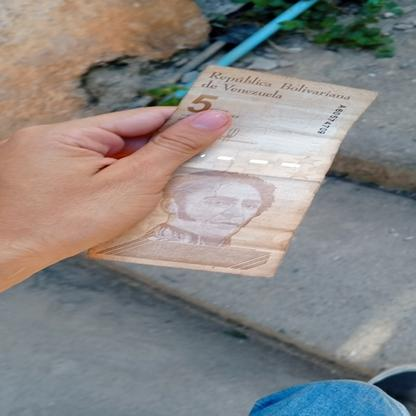vef_front: (86, 63, 378, 278)
